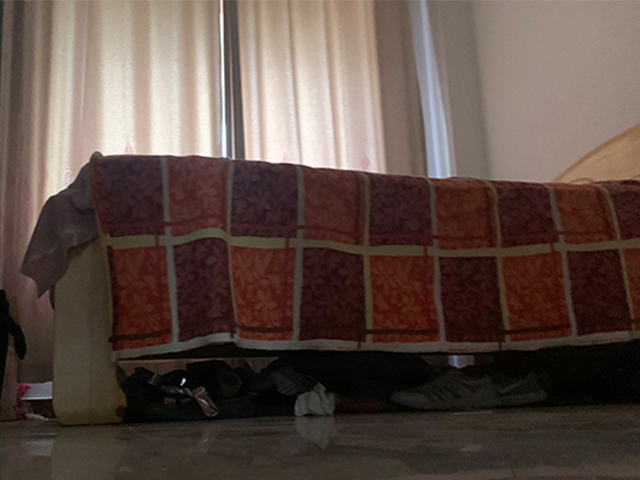bed: (19, 122, 640, 428)
curtain: (1, 1, 444, 167)
